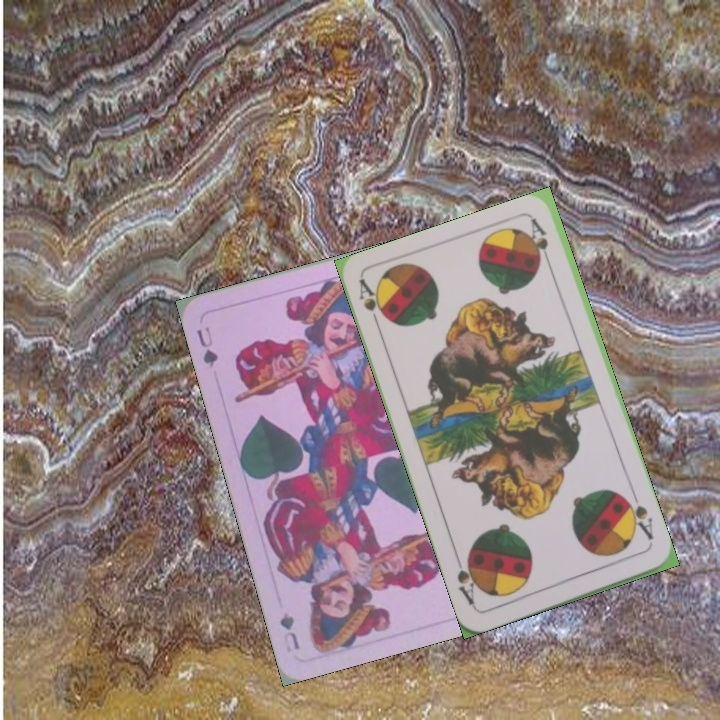GU: (192, 323, 221, 370)
SA: (355, 276, 390, 334), (620, 493, 656, 547)
